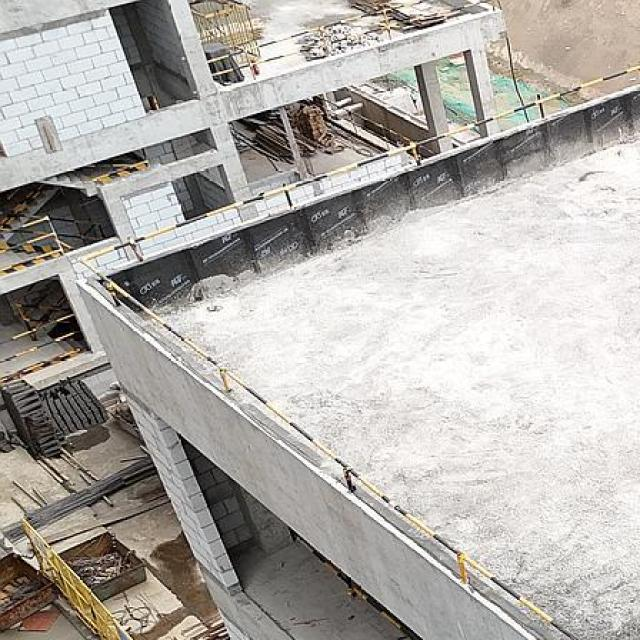edge_guardrail: (78, 64, 640, 639), (206, 0, 471, 80), (296, 531, 420, 640), (0, 314, 87, 385), (0, 214, 66, 273)
